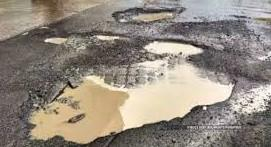pothole: (17, 61, 249, 146), (40, 30, 137, 55), (141, 33, 218, 64), (111, 2, 189, 31)
